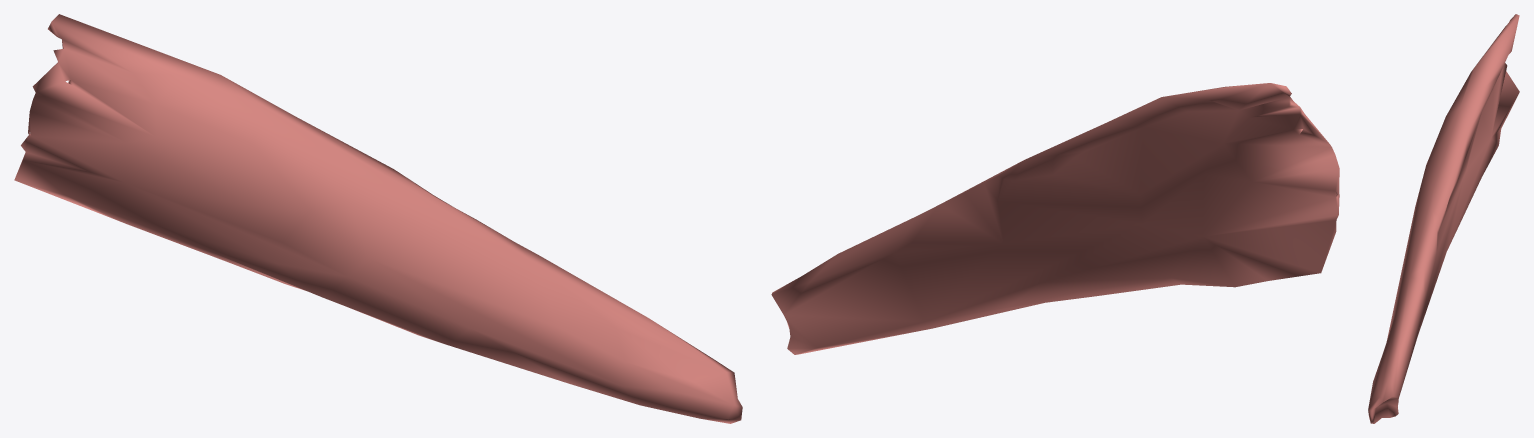
3 views of the same model, side by side, from view 1: azimuth 30°, elevation 25°; view 2: azimuth 150°, elevation 25°; view 3: azimuth 270°, elevation 25° (orthographic). The views are drawn at different scales.
Parts seen in each view (by area): view 1: ZA_ae39a8c0154c9a2b; view 2: ZA_ae39a8c0154c9a2b; view 3: ZA_ae39a8c0154c9a2b.
Boxes of the visible parts, x1,y1,x2,y2 form: ZA_ae39a8c0154c9a2b: [14, 14, 742, 423]; ZA_ae39a8c0154c9a2b: [771, 83, 1339, 354]; ZA_ae39a8c0154c9a2b: [1368, 14, 1519, 423].
Size of the model in its own units: 0.0434 by 0.0309 by 0.0165.
